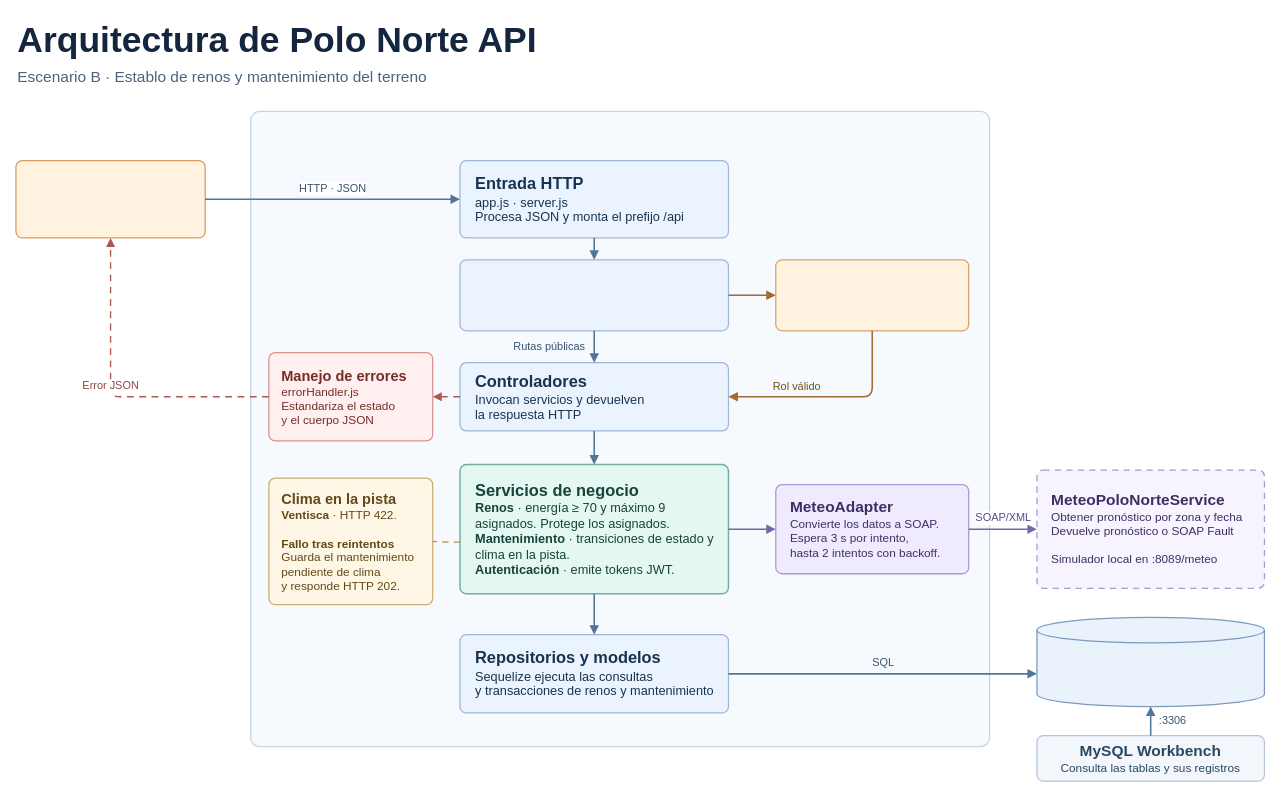
Some shapes in this 1281 by 797 pixel diagram are drawn without their labels. The box of each missing label's shape, as (x1, y1, x2, y2) in pixels:
API REST · Node.js y Express: (250, 110, 990, 747)
MySQL en Laragon Esquema polonorte renos · mantenimientos: (1036, 616, 1265, 707)
Postman Colección del Escenario B localhost:3000/api: (15, 160, 205, 238)
Rutas Login, renos, mantenimientos y vuelo Validan los identificadores de ruta: (459, 259, 729, 331)
Seguridad JWT Escrituras de renos Requiere rol JEFE_ESTABLO: (775, 259, 969, 331)
